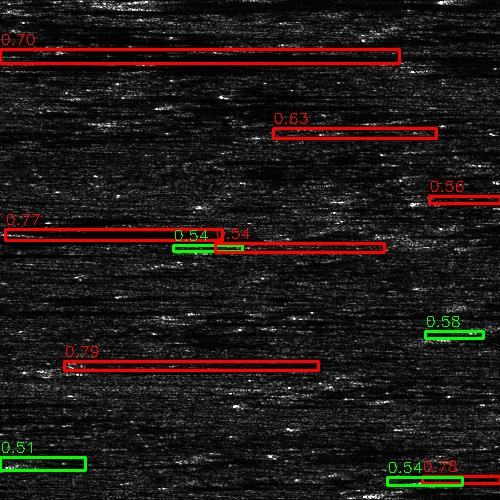rock: (0, 359, 136, 376), (30, 0, 217, 9), (370, 195, 463, 206), (380, 485, 463, 496), (223, 132, 296, 139), (276, 310, 329, 315), (152, 317, 193, 322), (477, 177, 500, 182), (423, 0, 476, 2)
shadow: (0, 54, 452, 63), (43, 359, 270, 376), (124, 0, 500, 9), (0, 218, 208, 231), (0, 233, 231, 242), (0, 303, 158, 316), (0, 211, 130, 222), (303, 310, 500, 315), (417, 195, 500, 206), (422, 485, 500, 496), (260, 132, 381, 139), (173, 317, 291, 322), (0, 250, 107, 255), (0, 131, 74, 138), (0, 414, 100, 419)
